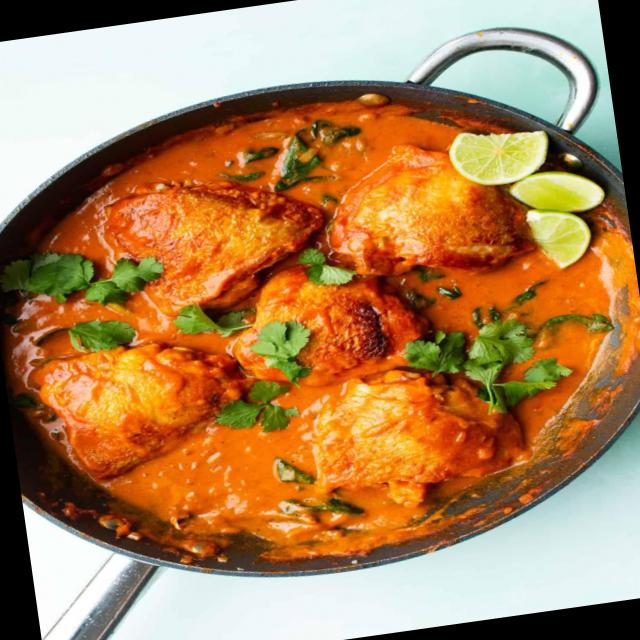chicken: (29, 98, 640, 595)
